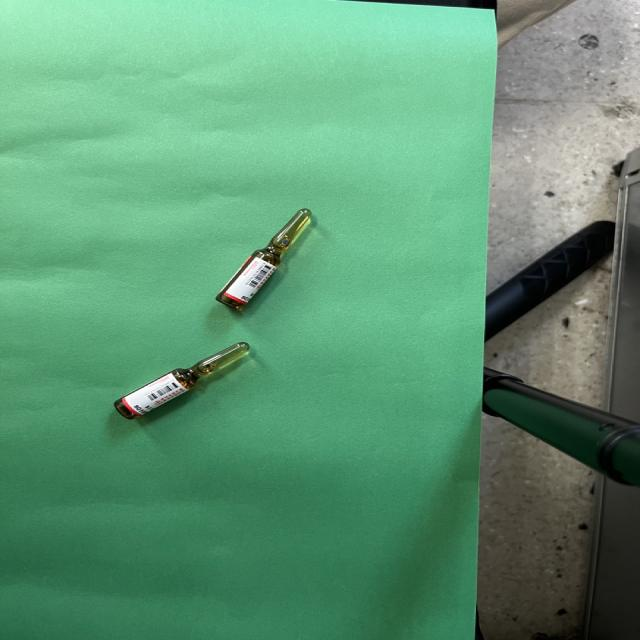Ampoules: (113, 342, 249, 420), (215, 209, 311, 312)
